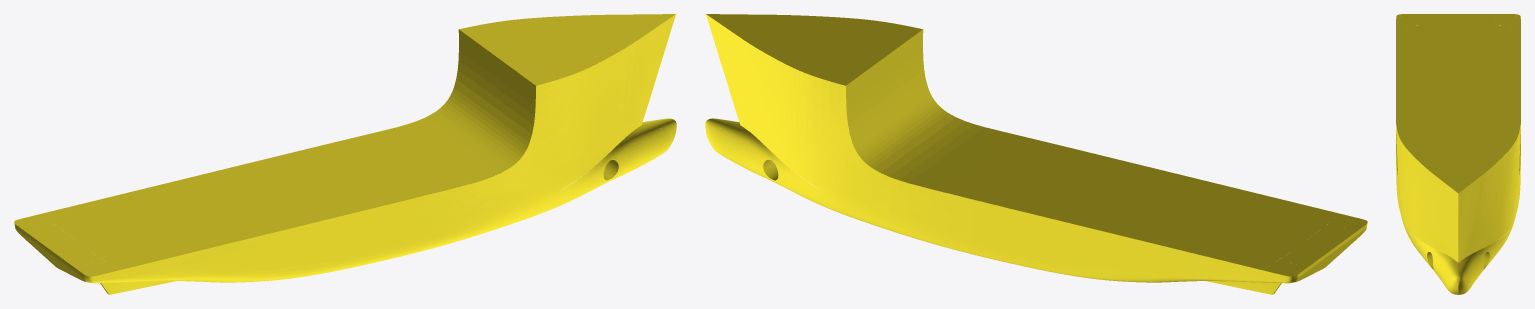
The model's file is Hull.glb.
The picture shows the model from 3 angles, left to right: view 1: azimuth 30°, elevation 25°; view 2: azimuth 150°, elevation 25°; view 3: azimuth 270°, elevation 25°; orthographic projection. The views are drawn at different scales.
Parts seen in each view (by area): view 1: Hull; view 2: Hull; view 3: Hull.
Boxes of the visible parts, left/top/right/bottom form: Hull: left=14, top=14, right=676, bottom=294; Hull: left=705, top=14, right=1367, bottom=294; Hull: left=1396, top=14, right=1520, bottom=294.
Bounding box in the file's own units: 1269 × 274 × 272.
